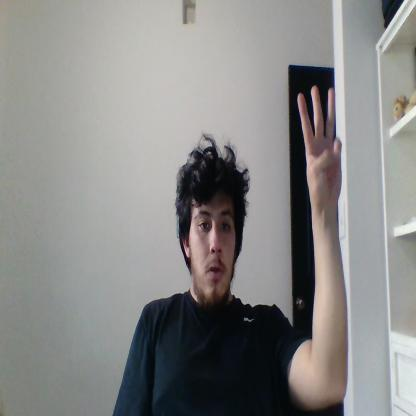W: (298, 85, 342, 203)
